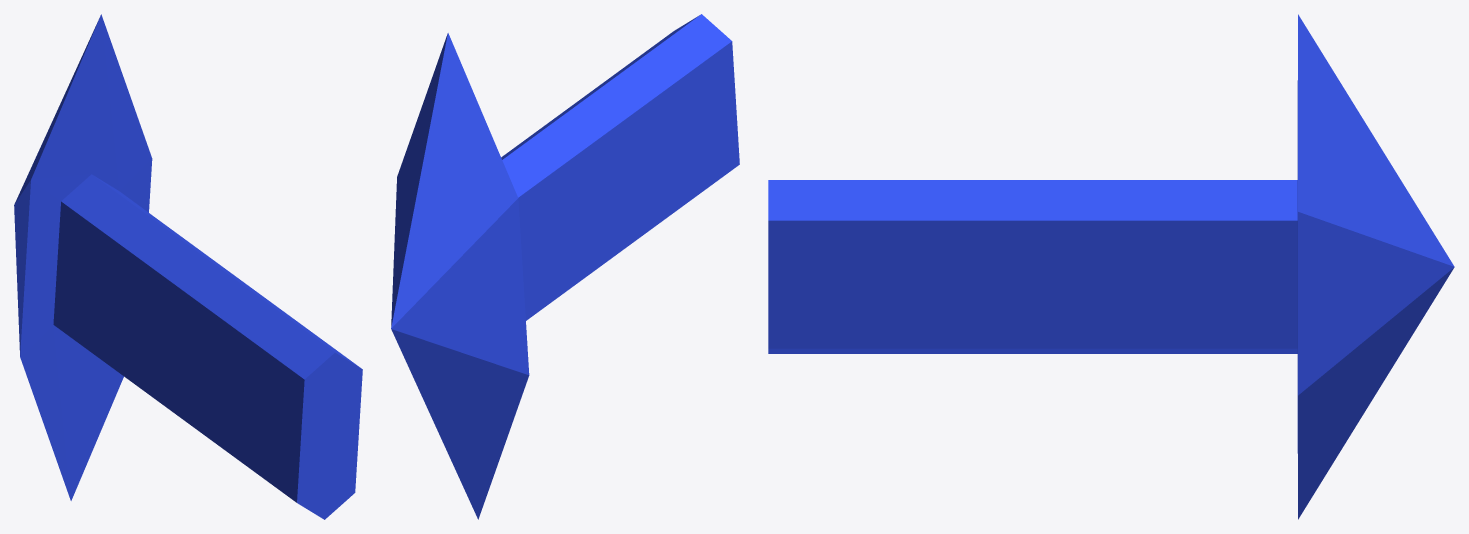
The model's file is arrow.obj.
3 views of the same model, side by side, from view 1: azimuth 30°, elevation 25°; view 2: azimuth 150°, elevation 25°; view 3: azimuth 270°, elevation 25° (orthographic). The views are drawn at different scales.
Parts seen in each view (by area): view 1: Cube_Cube.004; view 2: Cube_Cube.004; view 3: Cube_Cube.004.
Boxes of the visible parts, <box> form: Cube_Cube.004: <box>14,14,362,519</box>; Cube_Cube.004: <box>391,14,739,519</box>; Cube_Cube.004: <box>768,14,1454,519</box>.
Size of the model in its own units: 0.2741 by 0.9513 by 1.13.
Materials: 1 (1 with a texture image).
